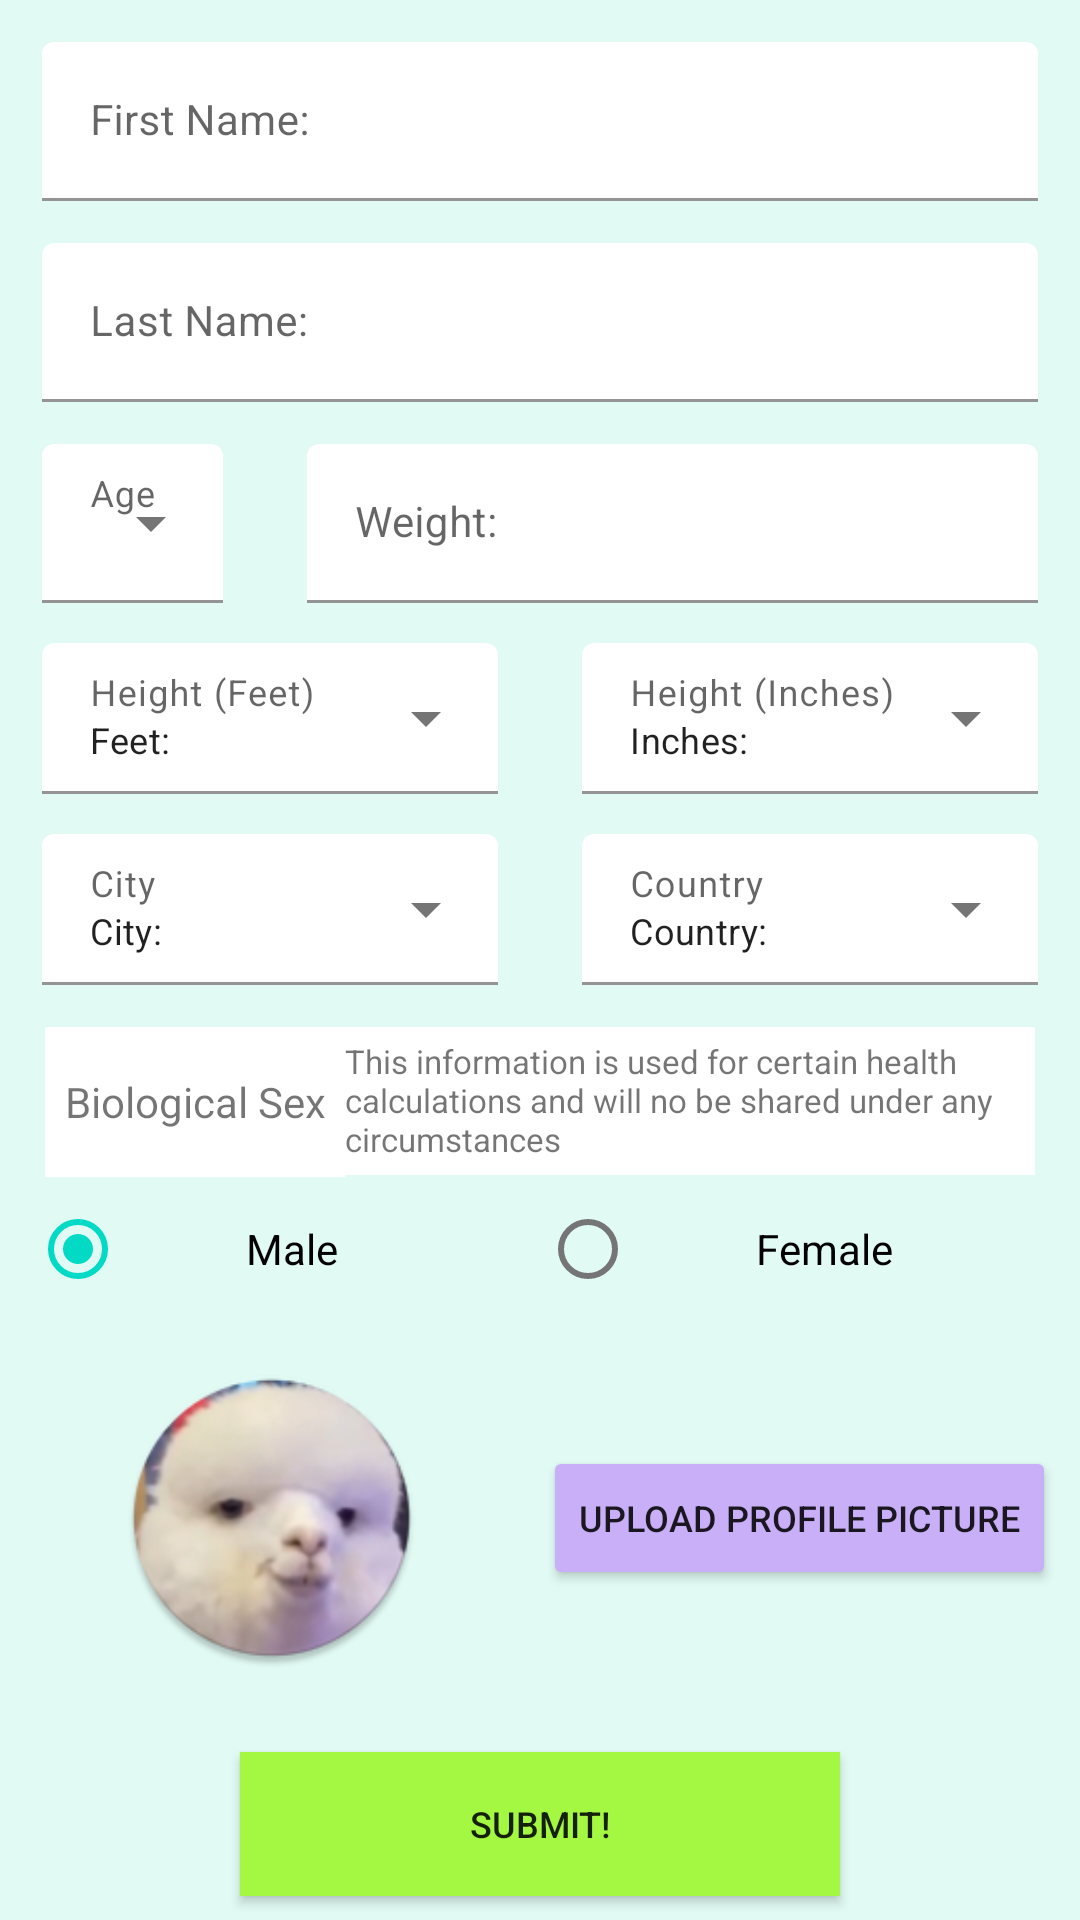

Screen size 1080px x 1920px. Icon name, then its center in pixels as point (x, y):
alpaca round: point (271, 1521)
